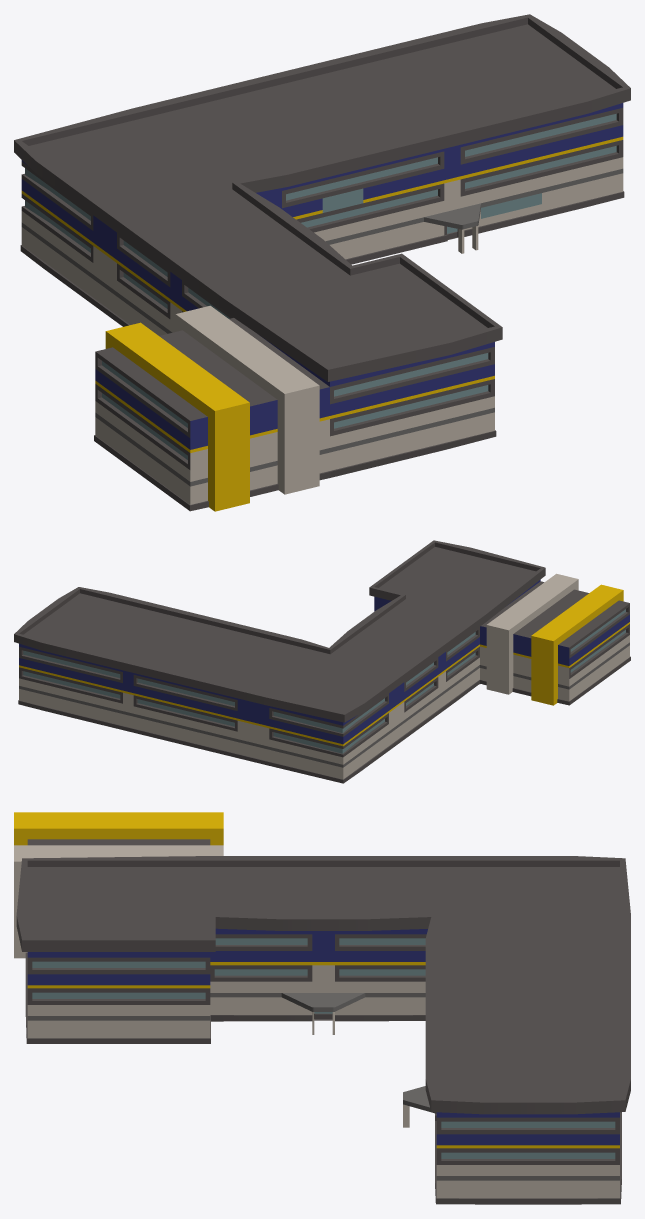
The model's file is Depot_Factory_S1.fbx.
3 views of the same model, one above another, from view 1: azimuth 30°, elevation 25°; view 2: azimuth 150°, elevation 25°; view 3: azimuth 270°, elevation 25° (orthographic). The views are drawn at different scales.
Parts seen in each view (by area): view 1: Depot_Factory; view 2: Depot_Factory; view 3: Depot_Factory.
Part boxes in pixels (x1,y1,x2,y2): Depot_Factory: (14,14,630,511); Depot_Factory: (14,540,630,783); Depot_Factory: (14,812,630,1204).
Size of the model in its own units: 11928 by 1942 by 10103.
